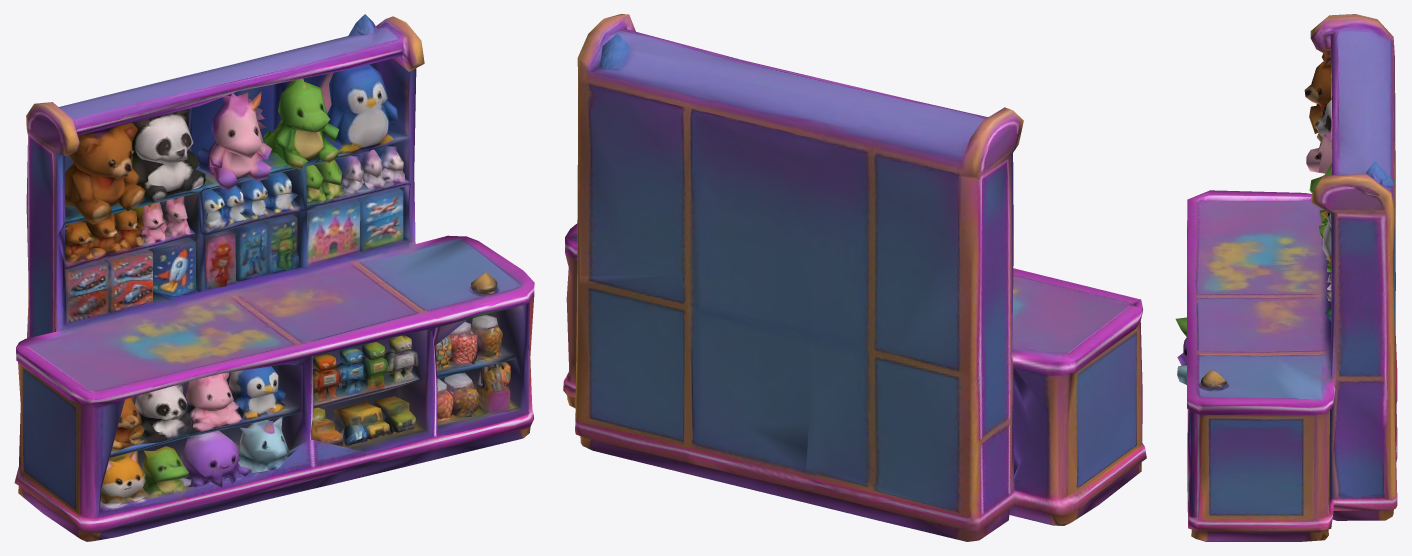
File: prize-counter.glb
The picture shows the model from 3 angles, left to right: view 1: azimuth 30°, elevation 25°; view 2: azimuth 150°, elevation 25°; view 3: azimuth 270°, elevation 25°; orthographic projection. The views are drawn at different scales.
Parts seen in each view (by area): view 1: prize-counter; view 2: prize-counter; view 3: prize-counter.
Boxes of the visible parts, x1=… form: prize-counter: x1=14, y1=14, x2=534, y2=541; prize-counter: x1=563, y1=14, x2=1146, y2=541; prize-counter: x1=1175, y1=14, x2=1397, y2=541.
Size of the model in its own units: 4.42 by 3.4 by 1.97.
Materials: 1 (1 with a texture image).
